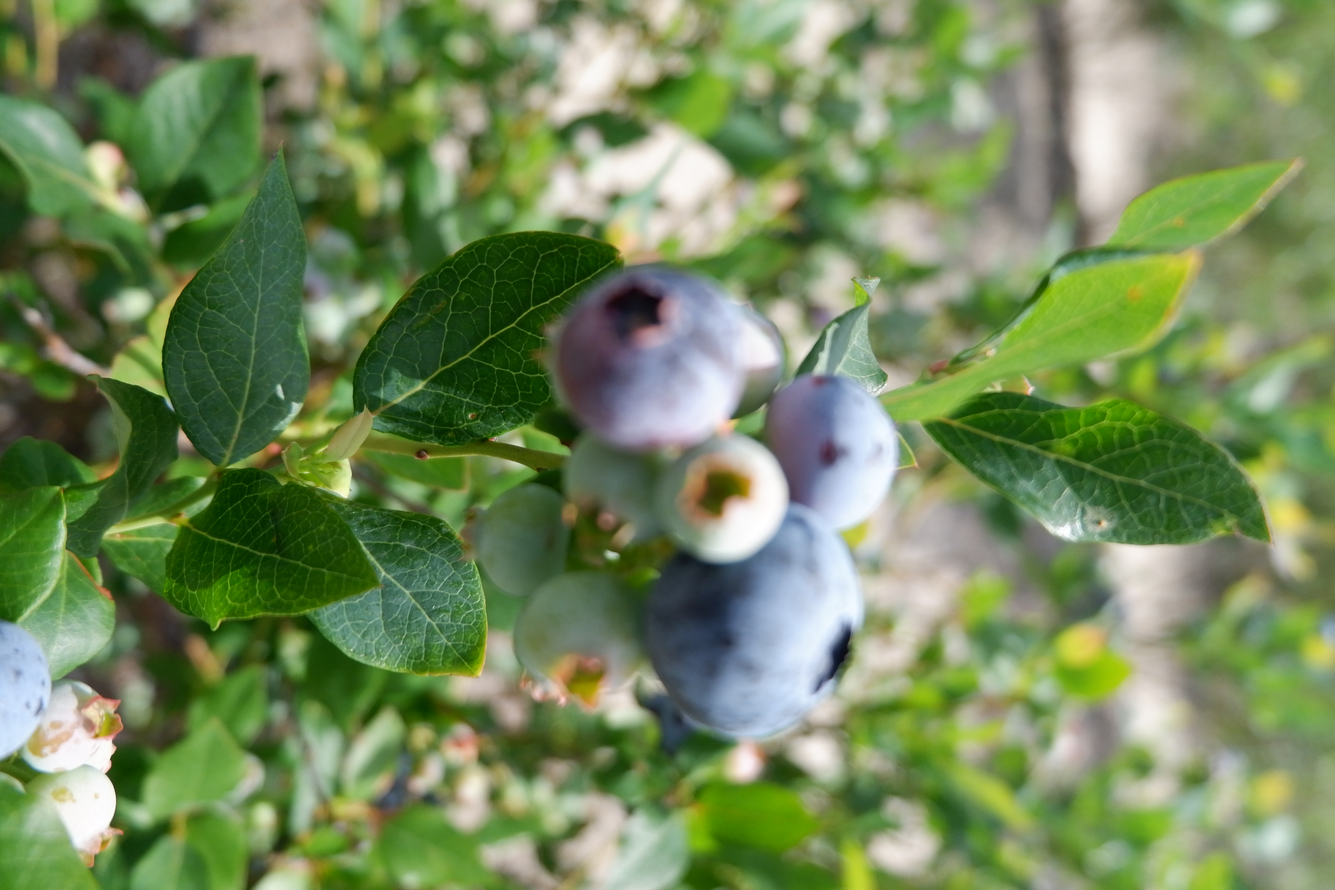Immature: (552, 267, 756, 448), (516, 575, 644, 705), (660, 437, 785, 561), (566, 435, 670, 554), (462, 486, 568, 594), (26, 684, 120, 773), (738, 305, 785, 420)
Mature: (649, 513, 861, 736), (768, 377, 899, 525), (5, 625, 50, 753)
